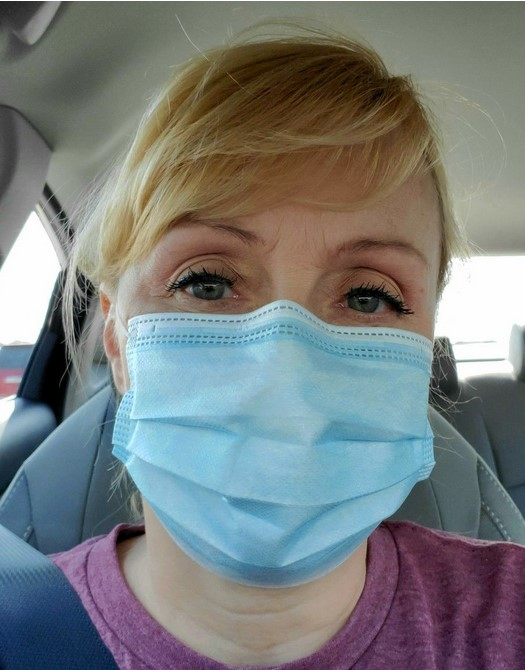face_with_mask: (95, 41, 451, 591)
